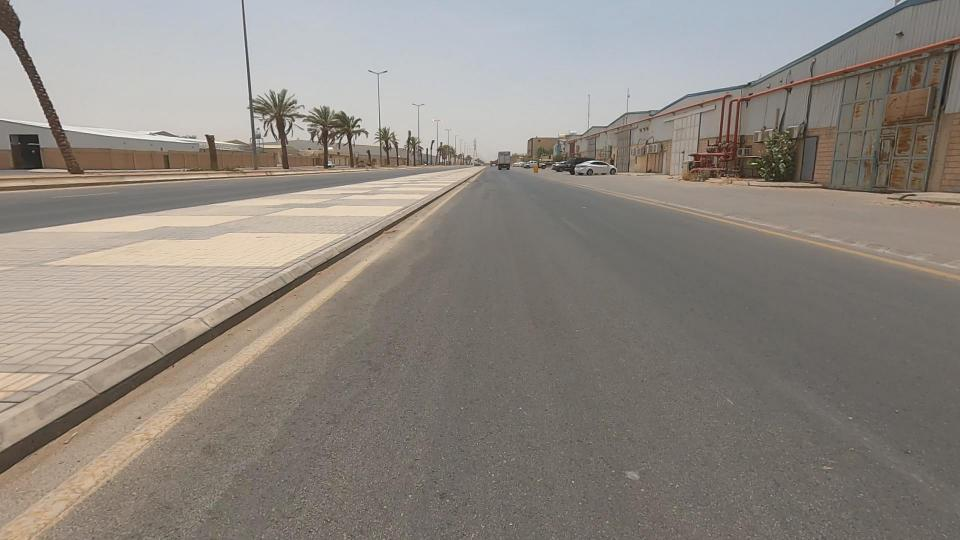BAD_BILLBOARD: (839, 60, 960, 150)
